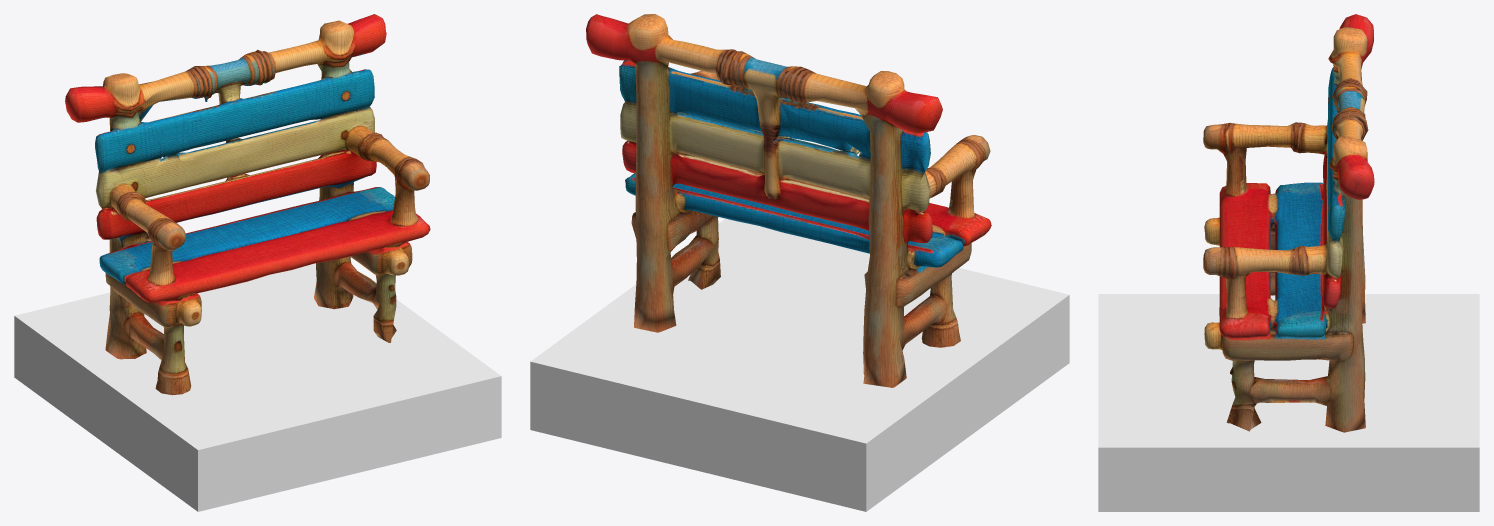
Rendered from bench.glb.
3 renders of one model, left to right at view 1: azimuth 30°, elevation 25°; view 2: azimuth 150°, elevation 25°; view 3: azimuth 270°, elevation 25°, orthographic. The views are drawn at different scales.
Parts seen in each view (by area): view 1: bench; view 2: bench; view 3: bench.
Part boxes in pixels (left/top/right/bottom): bench: left=14, top=14, right=501, bottom=511; bench: left=530, top=14, right=1069, bottom=511; bench: left=1098, top=14, right=1479, bottom=511.
Bounding box in the file's own units: 0.2859 × 0.293 × 0.2895.
Materials: 2 (1 with a texture image).
